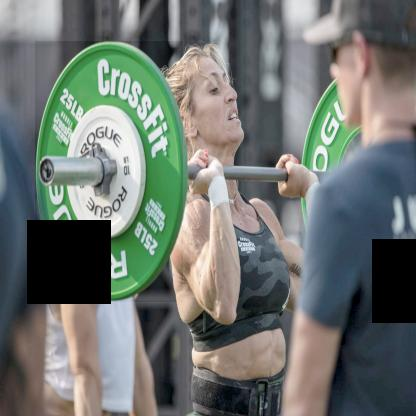barbell: (36, 42, 184, 303)
